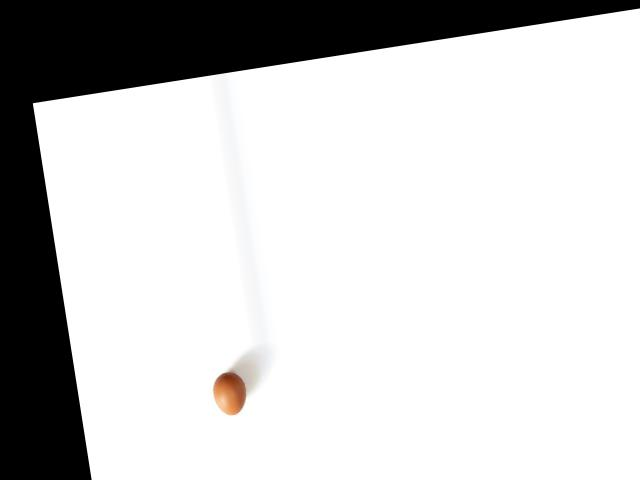egg: (210, 369, 248, 417)
